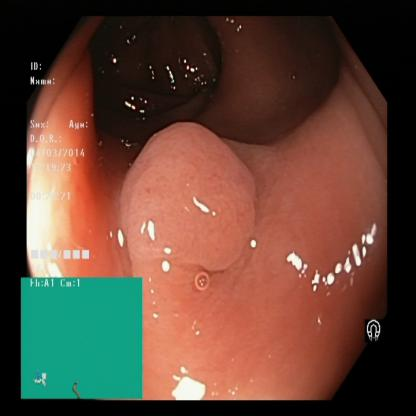Labels: (24, 55, 97, 275), (21, 279, 141, 400), (364, 312, 398, 351)
Polyps: (128, 118, 264, 271)
